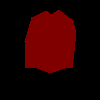abbigliamento_uomo: (24, 9, 76, 73)
